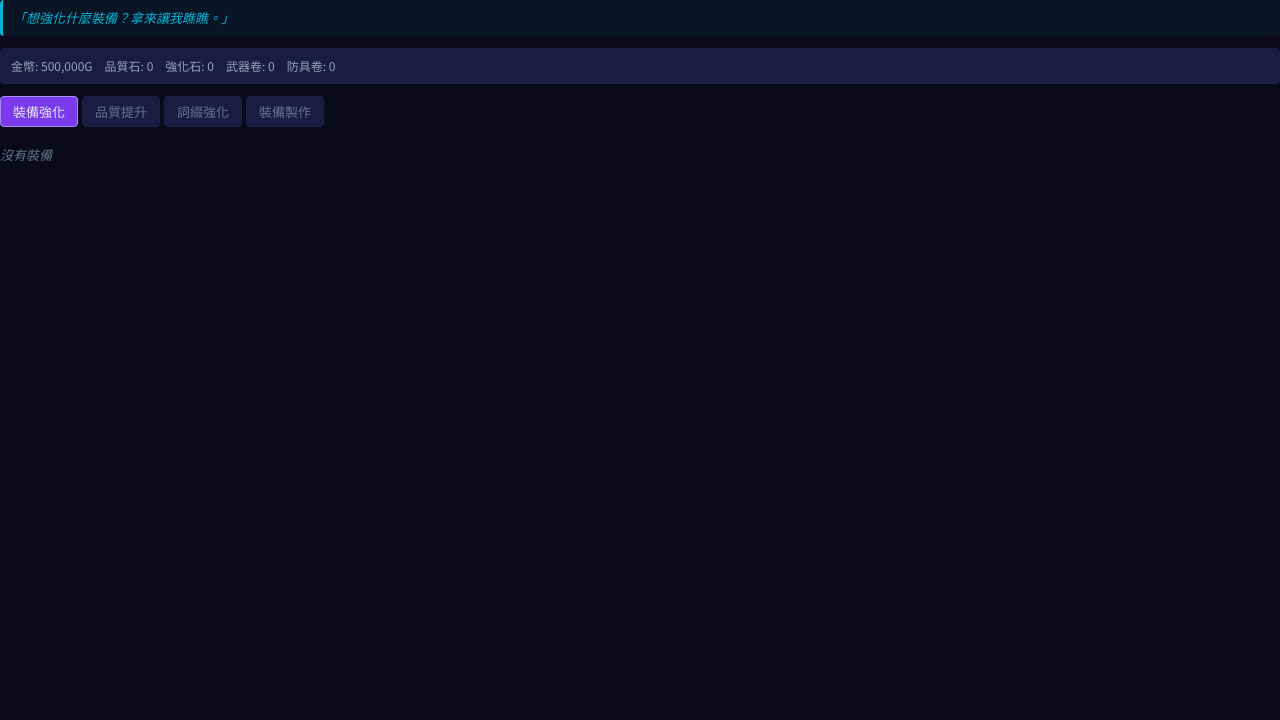
Scenario: TownBlacksmith - Crafting › shows recipe list when craft tab selected
Click the button "裝備製作".
click(285, 111)  # box [246, 96, 324, 126]
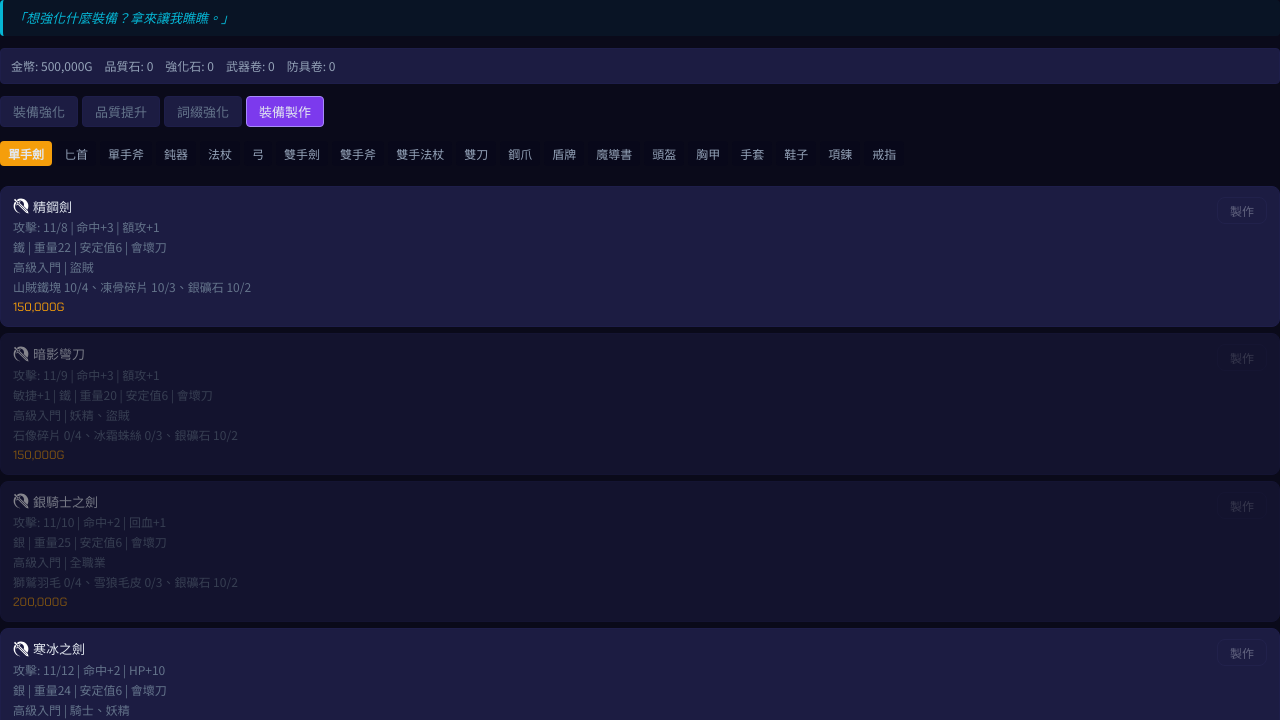
Now the text "精鋼劍" is shown, box [13, 196, 72, 216]
Now the text "銀騎士之劍" is shown, box [13, 492, 98, 510]
